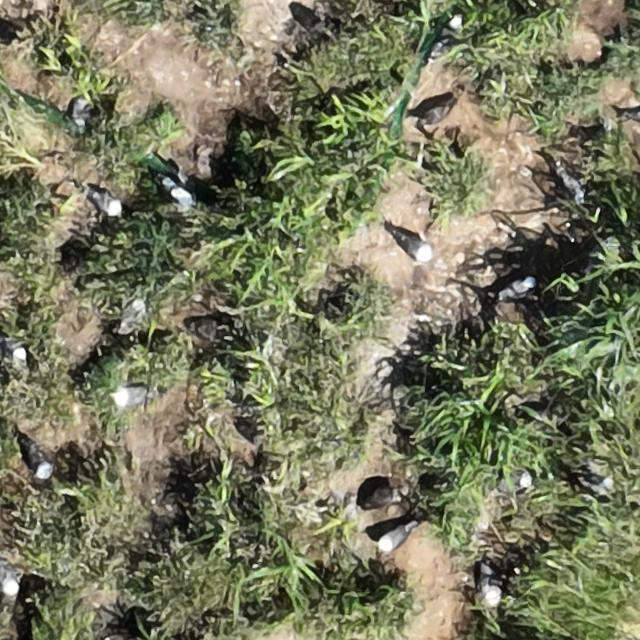umineko: (159, 174, 193, 203), (397, 232, 430, 260), (90, 192, 122, 216), (379, 527, 411, 551), (499, 471, 528, 497), (501, 277, 534, 298), (114, 388, 147, 408), (30, 448, 52, 478), (3, 337, 27, 359), (121, 301, 143, 325), (624, 110, 640, 124)
